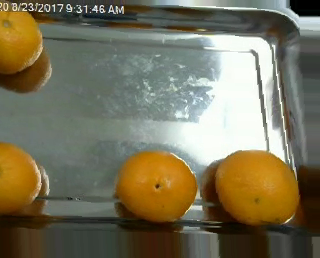Orange: (215, 149, 300, 227), (115, 149, 197, 221)
